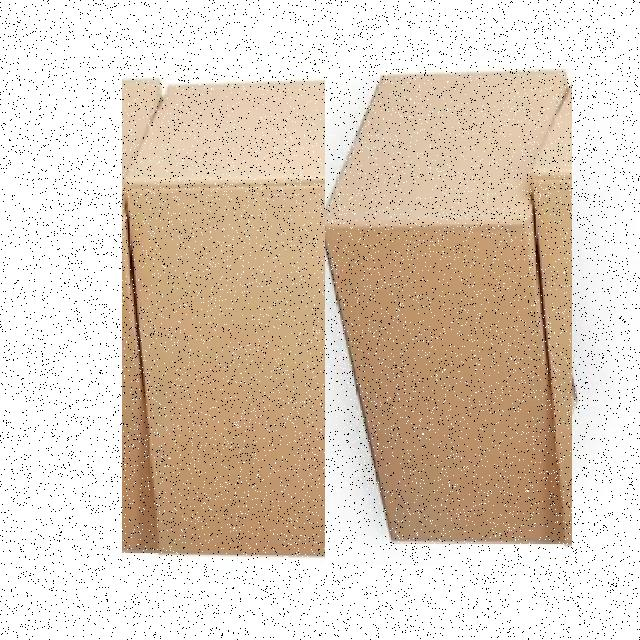normal: (122, 63, 369, 569), (325, 58, 572, 564)
